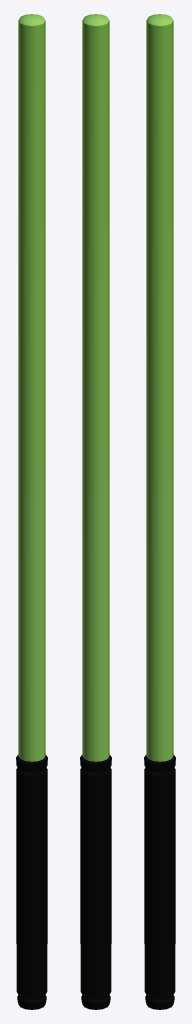
File: Sea_Mark_Lateral_Green.fbx
3 views of the same model, side by side, from view 1: azimuth 30°, elevation 25°; view 2: azimuth 150°, elevation 25°; view 3: azimuth 330°, elevation 25° (orthographic).
Visible parts, largest first — view 1: Mdl_SeaSign_Lateral_Green; view 2: Mdl_SeaSign_Lateral_Green; view 3: Mdl_SeaSign_Lateral_Green.
Boxes of the visible parts, bbox=[...] form: Mdl_SeaSign_Lateral_Green: bbox=[16, 14, 47, 1009]; Mdl_SeaSign_Lateral_Green: bbox=[80, 14, 111, 1009]; Mdl_SeaSign_Lateral_Green: bbox=[144, 14, 175, 1009].
Bounding box in the file's own units: 0.0583 × 2.01 × 0.0583.
